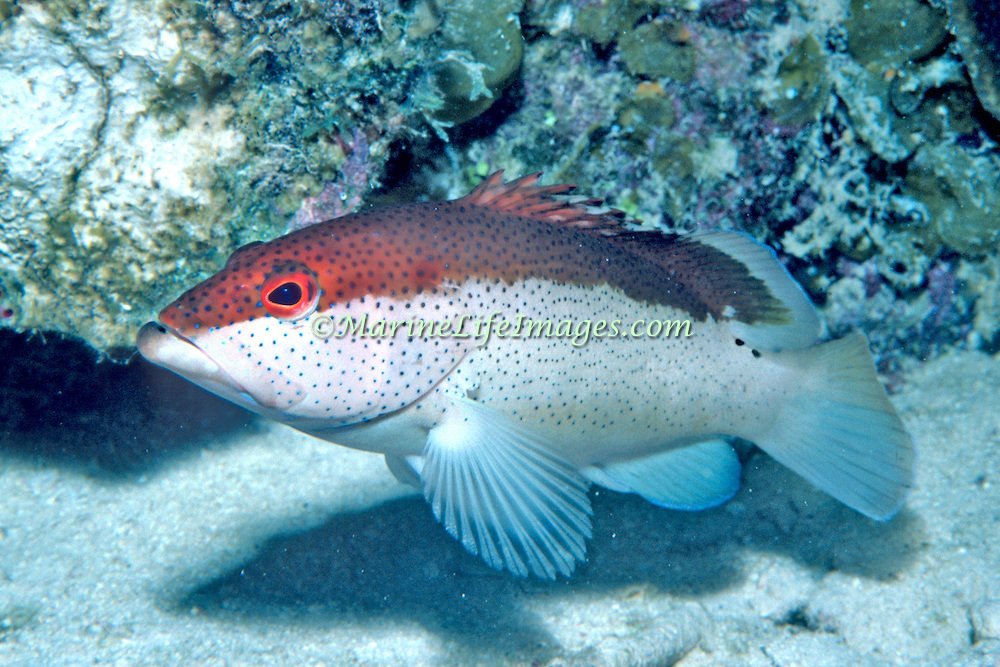Cephalopholis_fulvaw: (114, 163, 947, 596)
